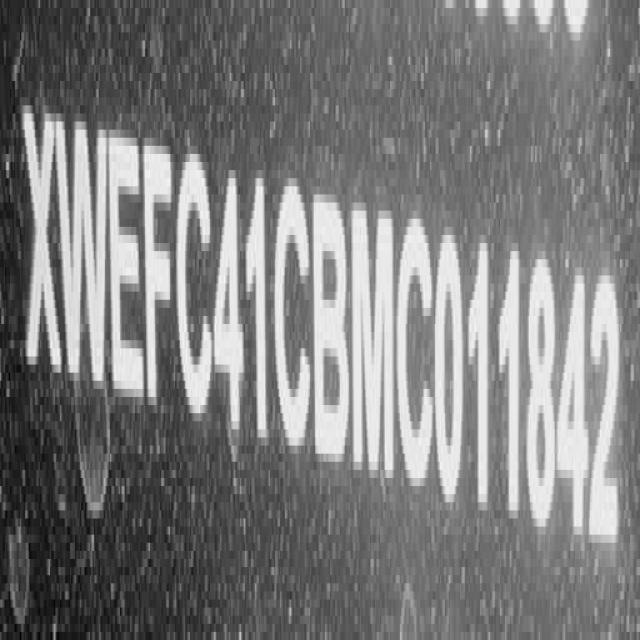0: (436, 210, 464, 510)
1: (468, 218, 490, 522), (500, 228, 521, 530), (248, 155, 269, 451)
2: (588, 255, 620, 552)
4: (559, 251, 589, 545), (214, 153, 244, 447)
8: (528, 236, 556, 536)
B: (314, 176, 349, 477)
C: (397, 197, 434, 511), (273, 160, 311, 458), (178, 133, 215, 435)
E: (110, 109, 145, 415)
F: (141, 130, 174, 421)
M: (353, 185, 398, 493)
W: (56, 91, 110, 411)
X: (20, 88, 62, 400)
